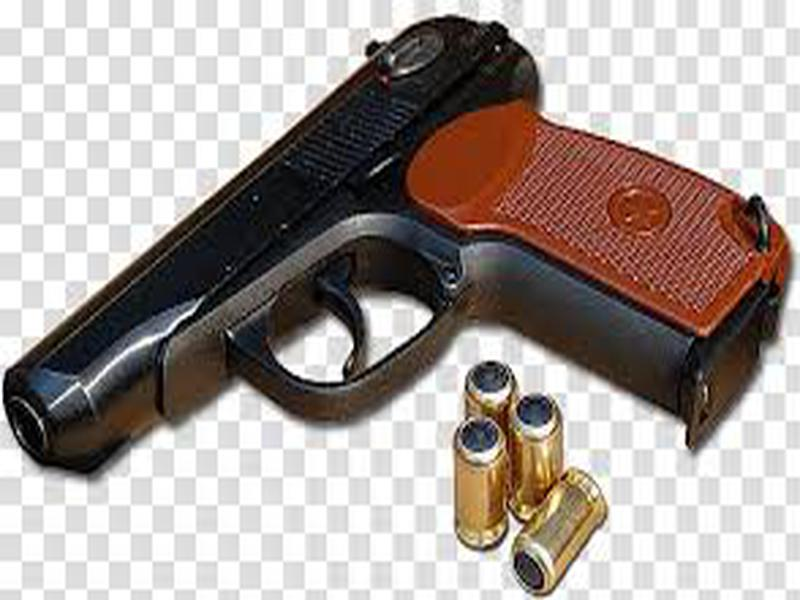gun: (3, 13, 775, 479)
